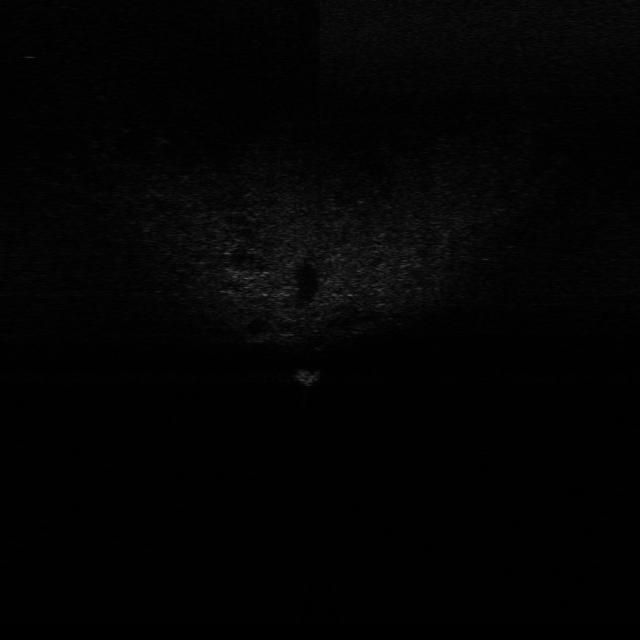cube: (292, 366, 324, 389)
